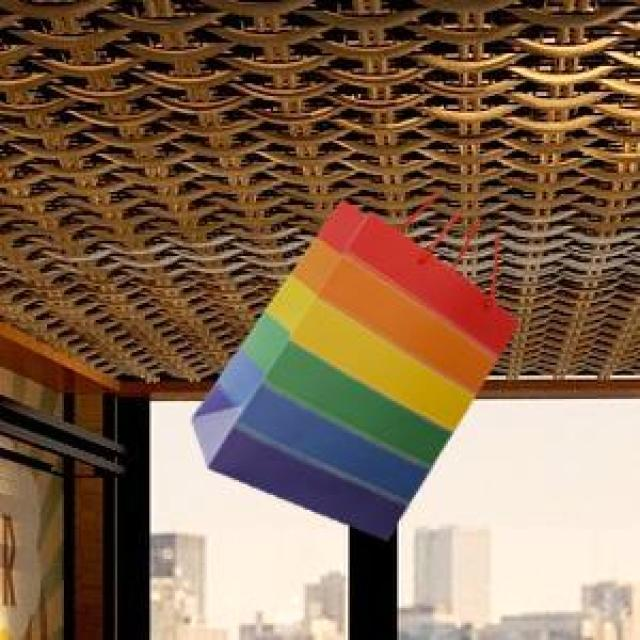Paper_Bag: (188, 198, 516, 536)
